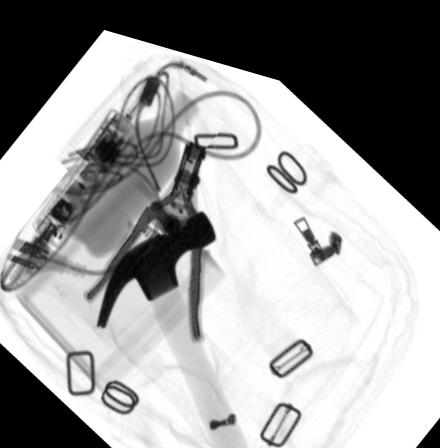Hammer: (95, 199, 248, 448)
Pliers: (85, 125, 208, 330)
